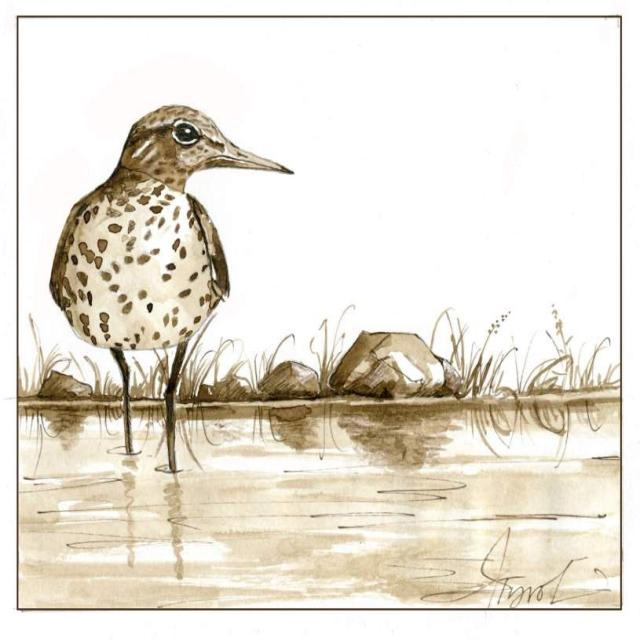Sandpiper: (56, 93, 282, 461)
